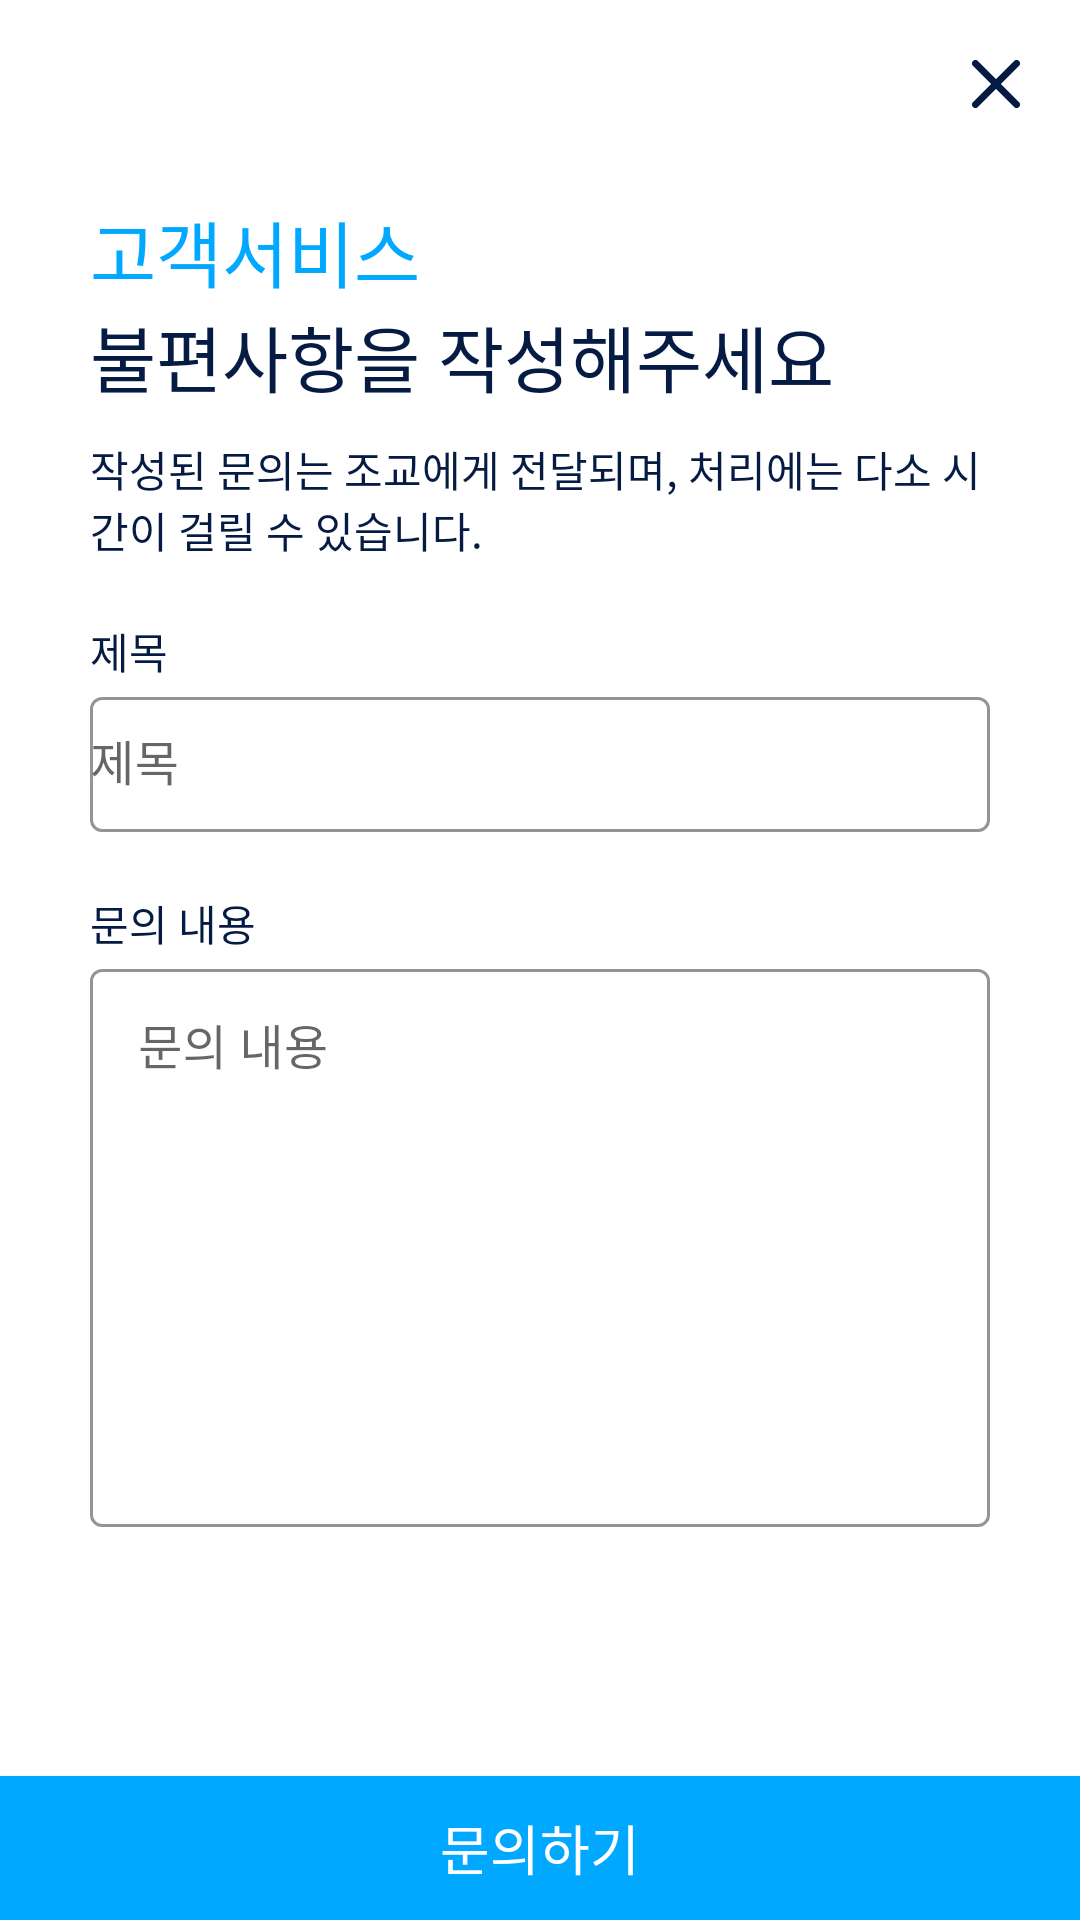

Where icons sit on this 1080×1920 app screen, as BBox(x1, y1, x2, y2):
close full: BBox(972, 60, 1020, 108)
